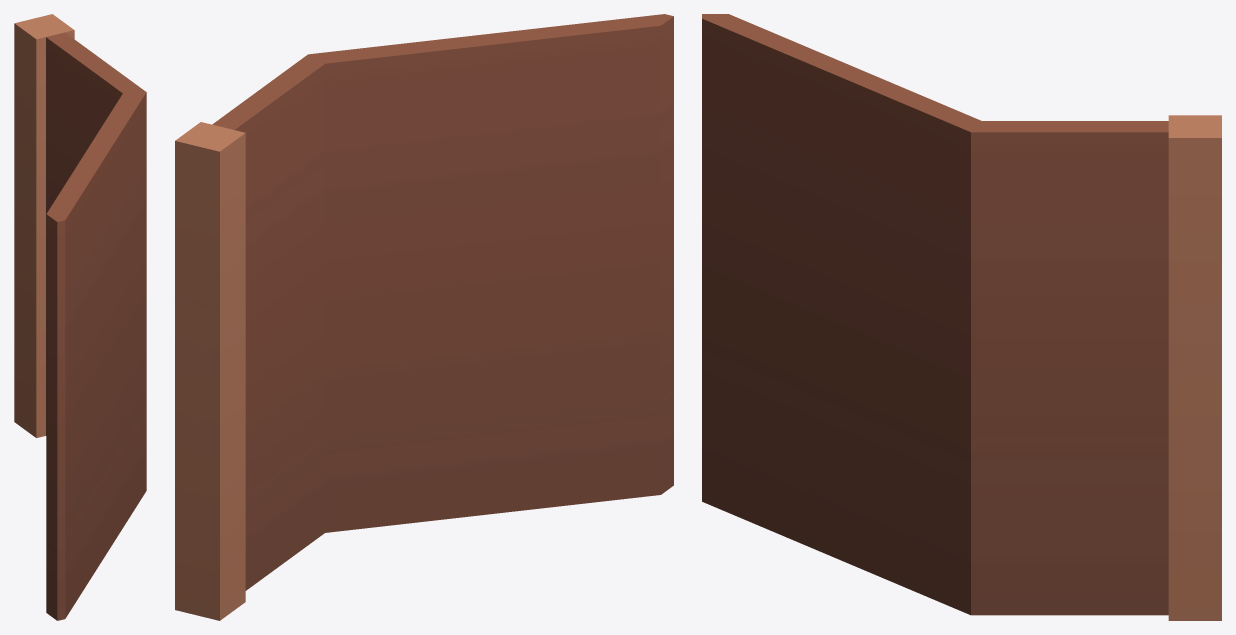
The model's file is wall-wood-corner-diagonal-half.glb.
3 views of the same model, side by side, from view 1: azimuth 30°, elevation 25°; view 2: azimuth 150°, elevation 25°; view 3: azimuth 270°, elevation 25° (orthographic). The views are drawn at different scales.
Visible parts, largest first — view 1: wall-wood-corner-diagonal-half; view 2: wall-wood-corner-diagonal-half; view 3: wall-wood-corner-diagonal-half.
Boxes of the visible parts, box(x1,y1,x2,y2) form: wall-wood-corner-diagonal-half: box(14, 14, 146, 620); wall-wood-corner-diagonal-half: box(175, 14, 673, 620); wall-wood-corner-diagonal-half: box(702, 14, 1221, 620).
Bounding box in the file's own units: 0.55 × 1 × 0.975.
Materials: 1 (1 with a texture image).
